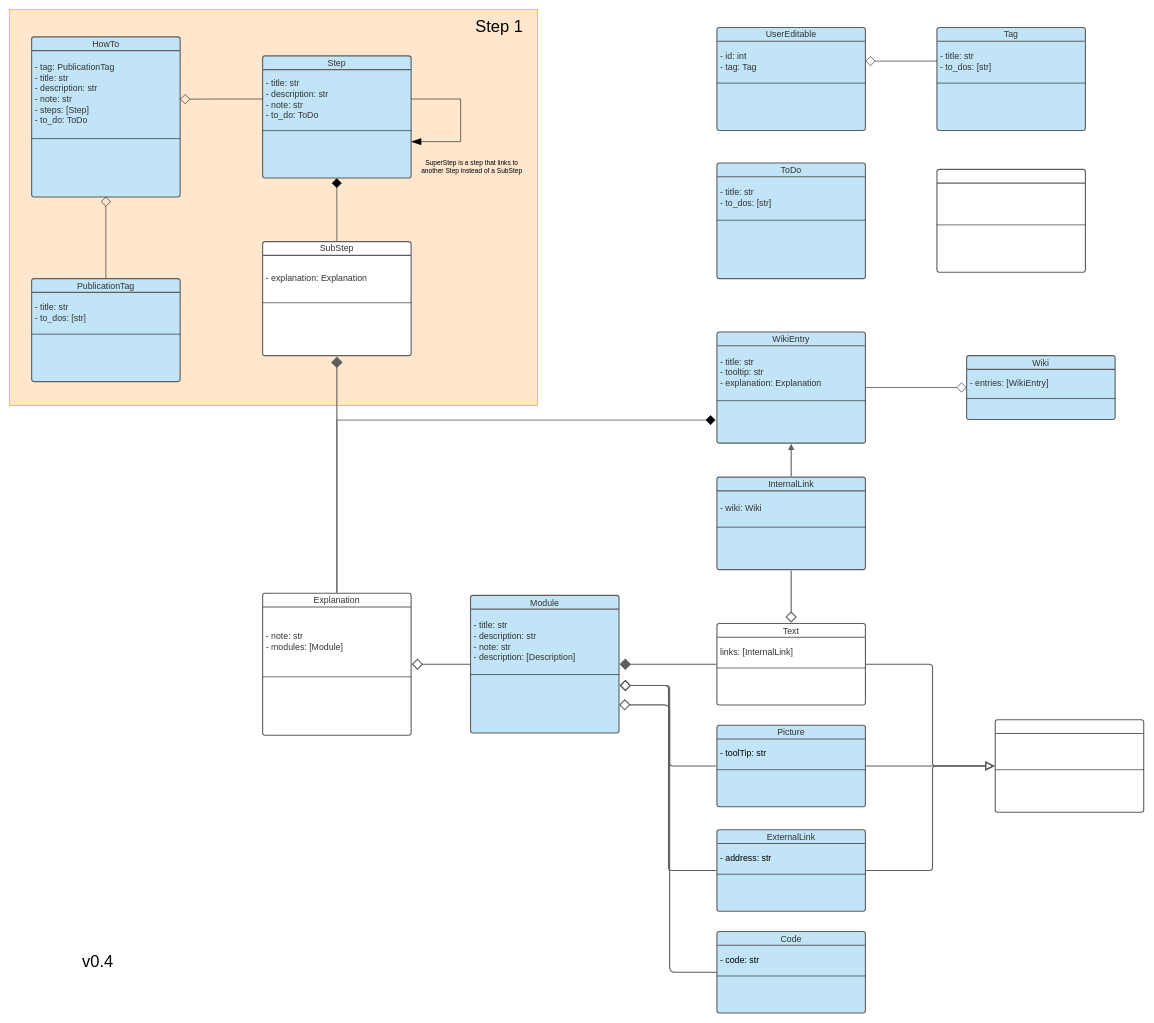
Image size: 1154x1023. Some labels were removed from this diagram. Each missing label, with the centre of its shape:
Description: point 1069,765
IdGenerator: point 1011,221
